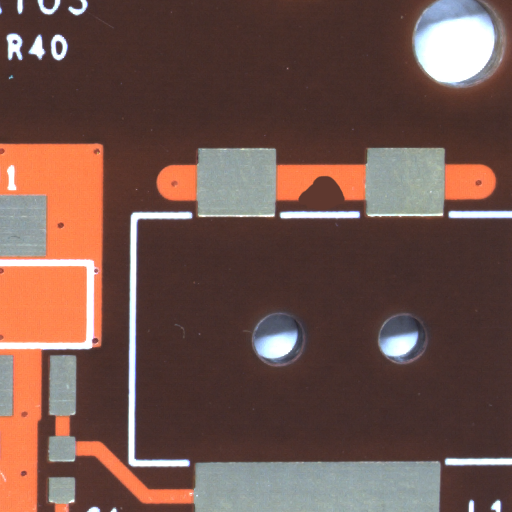Mouse_bite: (321, 191, 376, 224)
